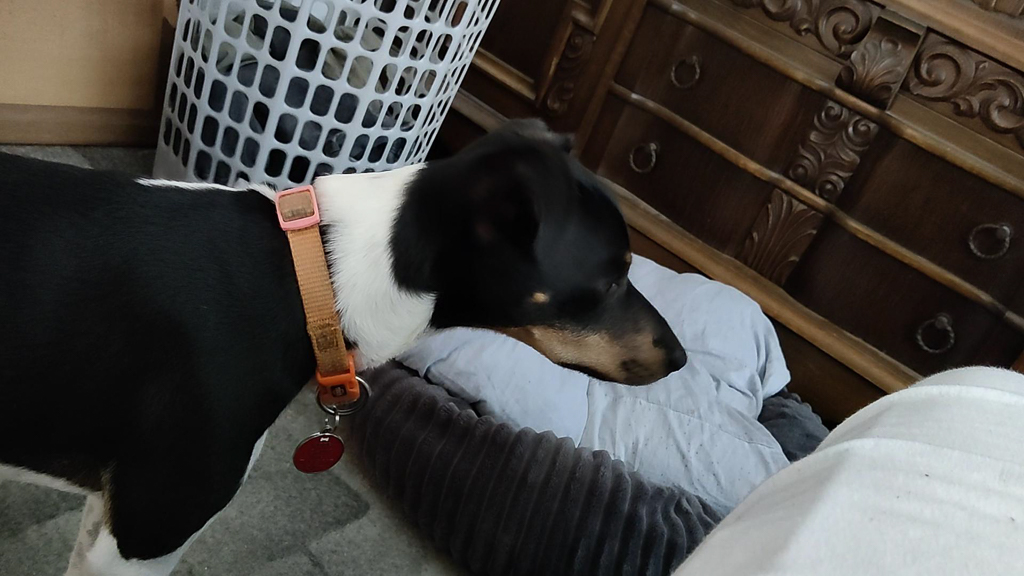Dog: (0, 101, 713, 576)
